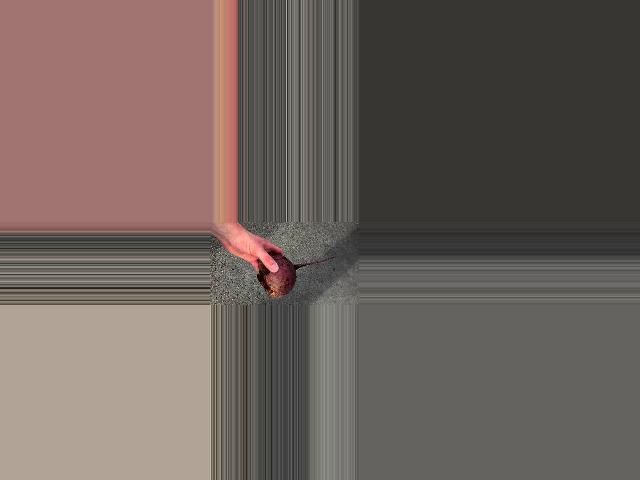beet: (257, 255, 334, 297)
